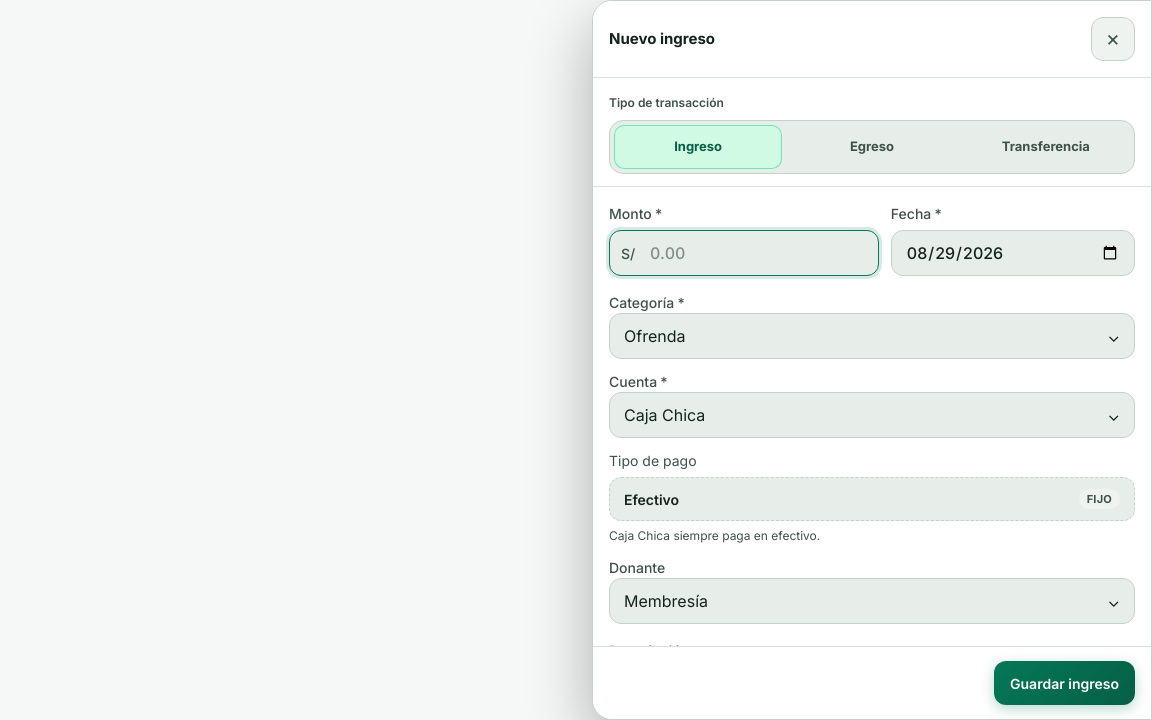
Test: TransactionEditorSheet — defaults e interacción › al cambiar a una cuenta que no es Caja Chica ofrece el selector con Transferencia
Click the button named "Cuenta" at (665,415), box [609,392,1135,438]
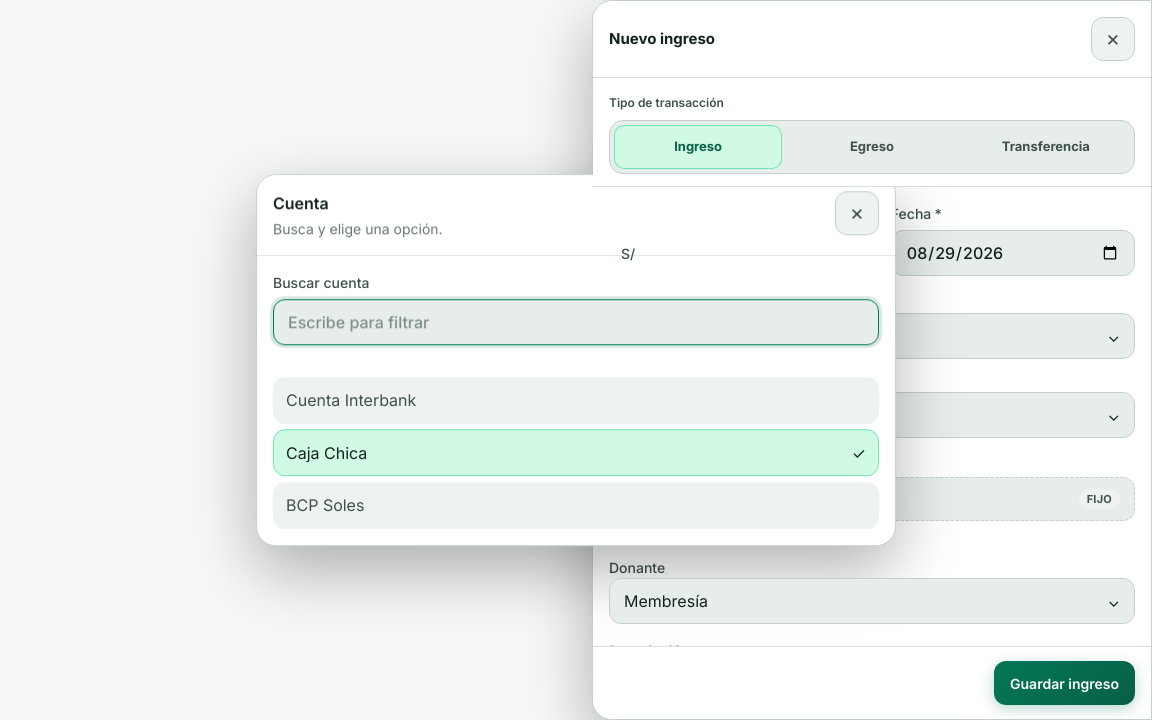
Click the button "BCP Soles" at (325,505), box [273,482,879,529]
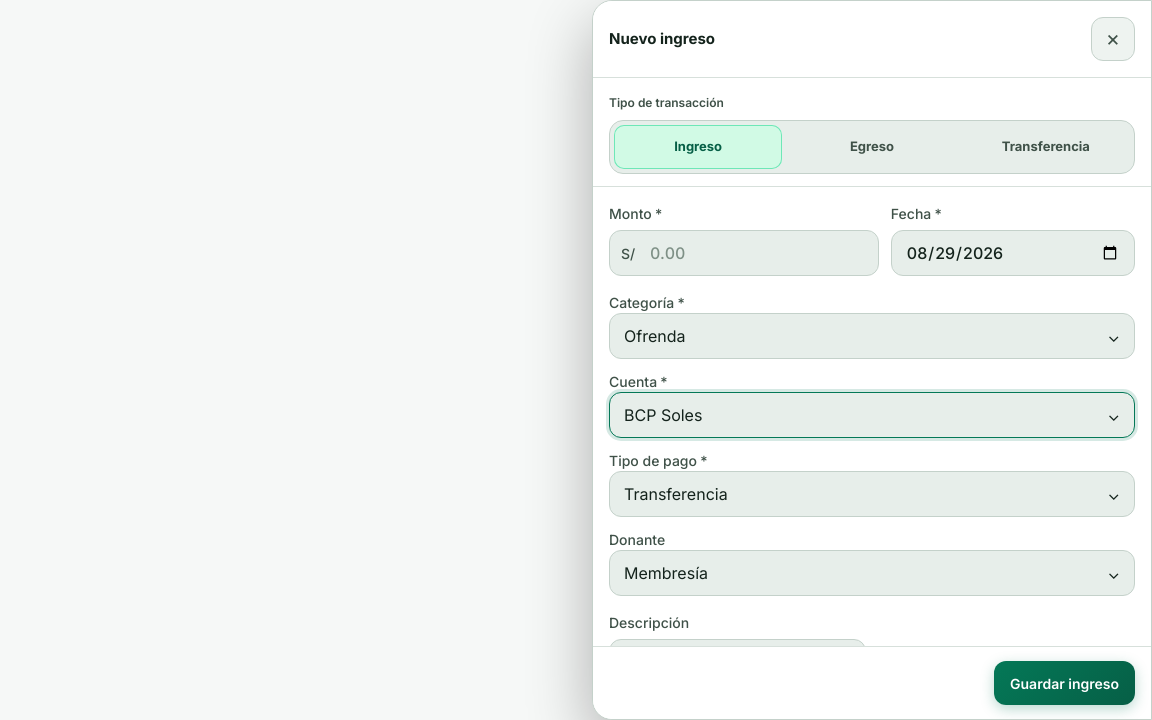
Result: the button named "Tipo de pago" shows "Transferencia" at [609,471,1135,517]
